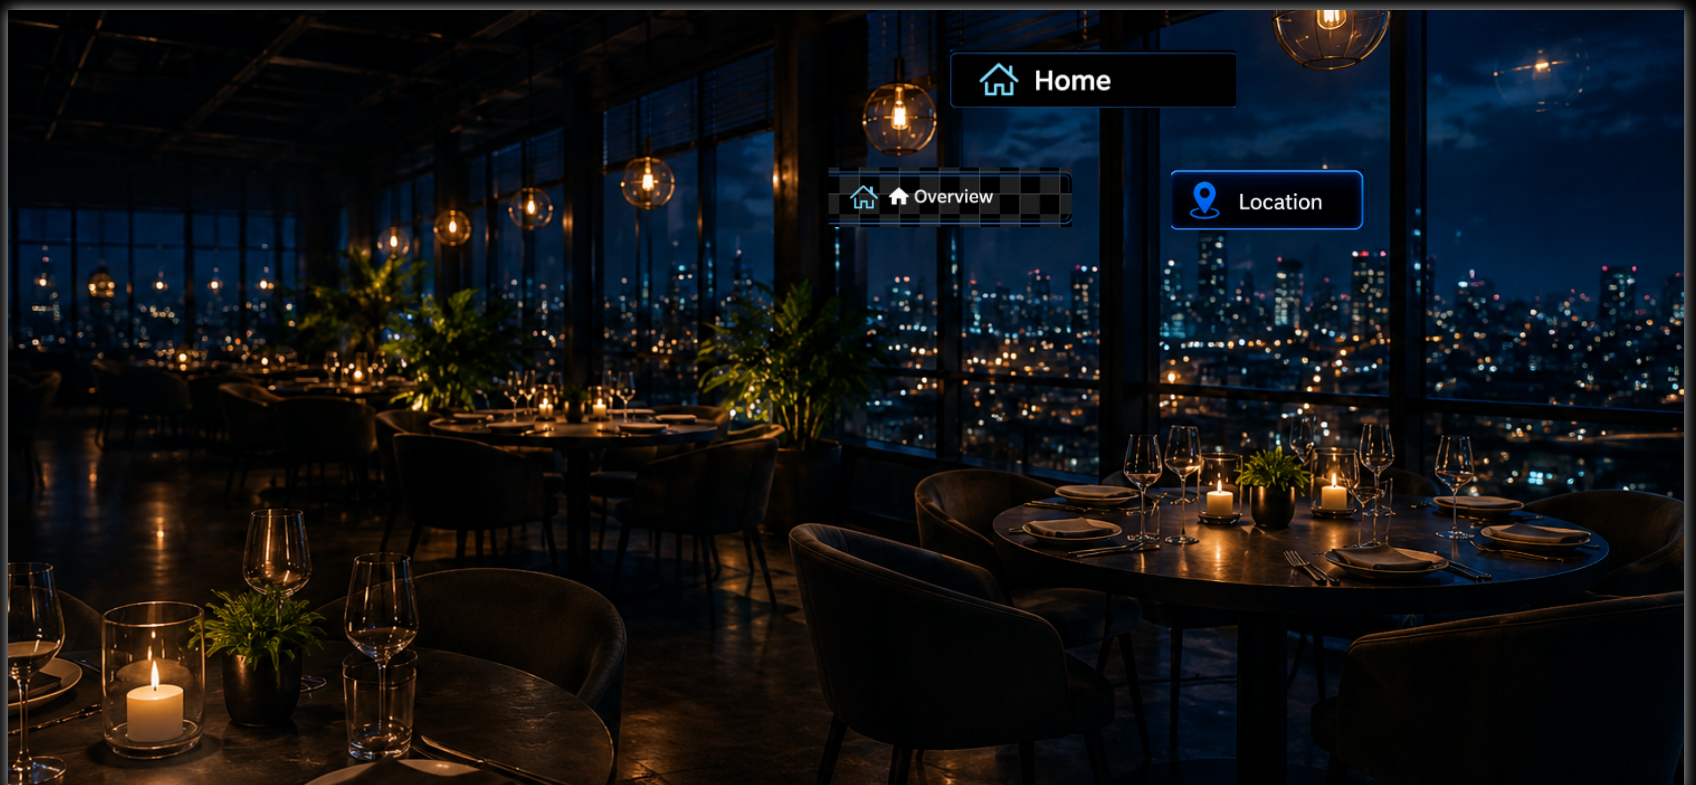

Layout of this report page (visuals, bound fields, positions):
{"tool":"powerbi","page":{"name":"Home","canvas":[1500,700],"ordinal":0},"visuals":[{"type":"image","box":[842.8,33.3,255.7,56],"z":0},{"type":"image","box":[733.9,137.7,217.9,59],"z":1},{"type":"image","box":[1033.5,142.2,187.6,54.5],"z":2}]}

Visuals, with their boxes in screenshot pixels (x1, y1, x2, y2), scaled from the page's 1500x700 canvas onto the 1696x785 screenshot:
image: box(953, 37, 1242, 100)
image: box(830, 154, 1076, 221)
image: box(1169, 159, 1381, 221)
